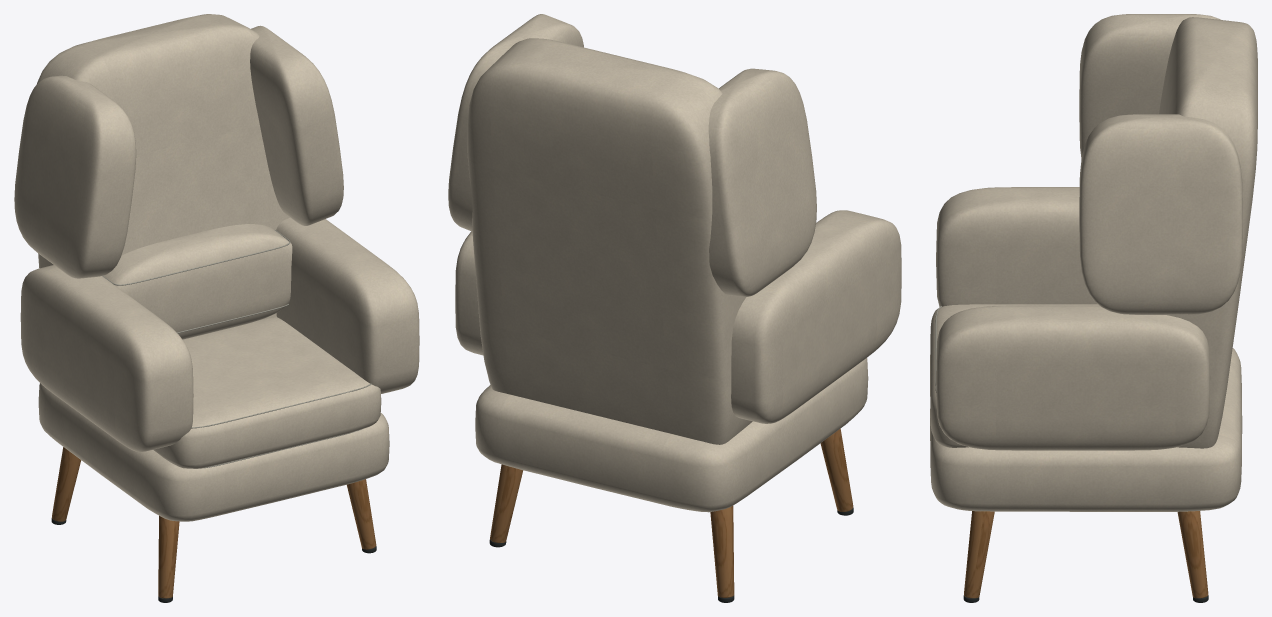
File: wingback-armchair.glb
The picture shows the model from 3 angles, left to right: view 1: azimuth 30°, elevation 25°; view 2: azimuth 150°, elevation 25°; view 3: azimuth 270°, elevation 25°; orthographic projection. The views are drawn at different scales.
Visible parts, largest first — view 1: Wingback | tall back, Wingback | rolled arm, Wingback | seat, Wingback | sculpted wing, Wingback | lower body, Wingback | rolled arm.001, Wingback | lumbar, Wingback | sculpted wing.001, Frame | tapered leg, Frame | tapered leg.001, Frame | tapered leg.002; view 2: Wingback | tall back, Wingback | lower body, Wingback | rolled arm, Wingback | sculpted wing, Wingback | sculpted wing.001, Wingback | rolled arm.001, Frame | tapered leg.001, Frame | tapered leg, Frame | tapered leg.003; view 3: Wingback | rolled arm.001, Wingback | sculpted wing.001, Wingback | lower body, Wingback | rolled arm, Wingback | tall back, Wingback | sculpted wing, Wingback | seat, Frame | tapered leg.003, Frame | tapered leg.002.
Boxes of the visible parts, x1,y1,x2,y2 form: Wingback | tall back: [36, 14, 289, 320]; Wingback | rolled arm: [20, 265, 193, 451]; Wingback | seat: [153, 317, 381, 468]; Wingback | sculpted wing: [14, 75, 136, 278]; Wingback | lower body: [38, 383, 389, 521]; Wingback | rolled arm.001: [276, 217, 419, 393]; Wingback | lumbar: [103, 224, 292, 339]; Wingback | sculpted wing.001: [250, 25, 343, 225]; Frame | tapered leg: [158, 515, 179, 598]; Frame | tapered leg.001: [52, 447, 81, 521]; Frame | tapered leg.002: [347, 479, 376, 549]; Wingback | tall back: [467, 38, 752, 444]; Wingback | lower body: [475, 358, 868, 512]; Wingback | rolled arm: [731, 210, 901, 423]; Wingback | sculpted wing: [708, 68, 816, 296]; Wingback | sculpted wing.001: [448, 14, 583, 231]; Wingback | rolled arm.001: [455, 231, 483, 355]; Frame | tapered leg.001: [710, 506, 734, 597]; Frame | tapered leg: [820, 429, 853, 511]; Frame | tapered leg.003: [490, 464, 523, 542]; Wingback | rolled arm.001: [936, 305, 1210, 450]; Wingback | sculpted wing.001: [1079, 114, 1242, 314]; Wingback | lower body: [930, 348, 1242, 511]; Wingback | rolled arm: [936, 187, 1097, 306]; Wingback | tall back: [1159, 17, 1257, 448]; Wingback | sculpted wing: [1079, 14, 1220, 158]; Wingback | seat: [930, 304, 1098, 447]; Frame | tapered leg.003: [1177, 511, 1208, 598]; Frame | tapered leg.002: [964, 511, 994, 598].
Bounding box in the file's own units: 0.89 × 1.38 × 0.8298.
4 materials, 2 textured.
